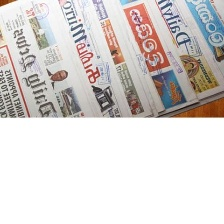news_paper: (65, 0, 169, 118), (47, 0, 134, 119), (138, 0, 224, 118), (116, 0, 201, 118), (20, 0, 104, 119), (0, 0, 64, 120), (177, 0, 224, 90)
